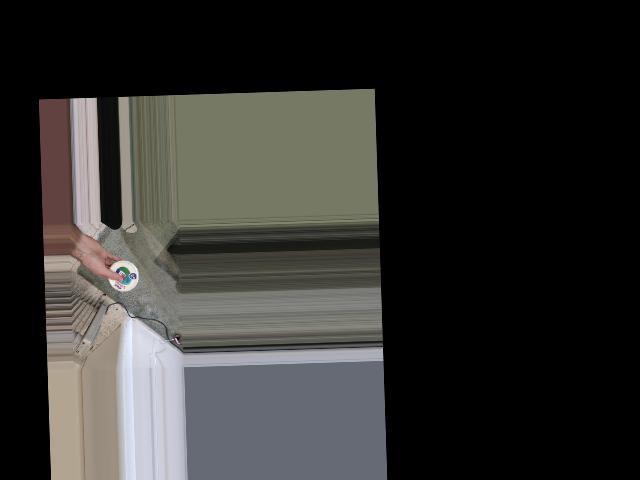cotage: (107, 260, 137, 290)
